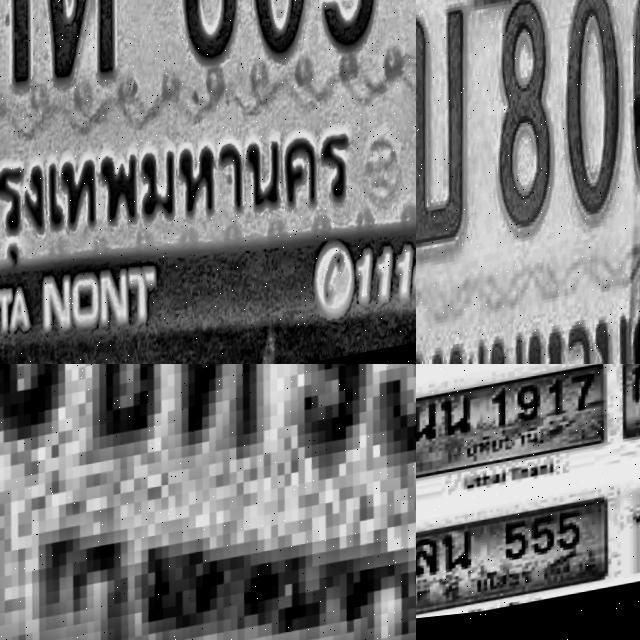license-plate: (0, 0, 416, 364), (0, 364, 416, 640), (416, 0, 640, 364), (416, 505, 624, 621), (416, 371, 618, 486)
